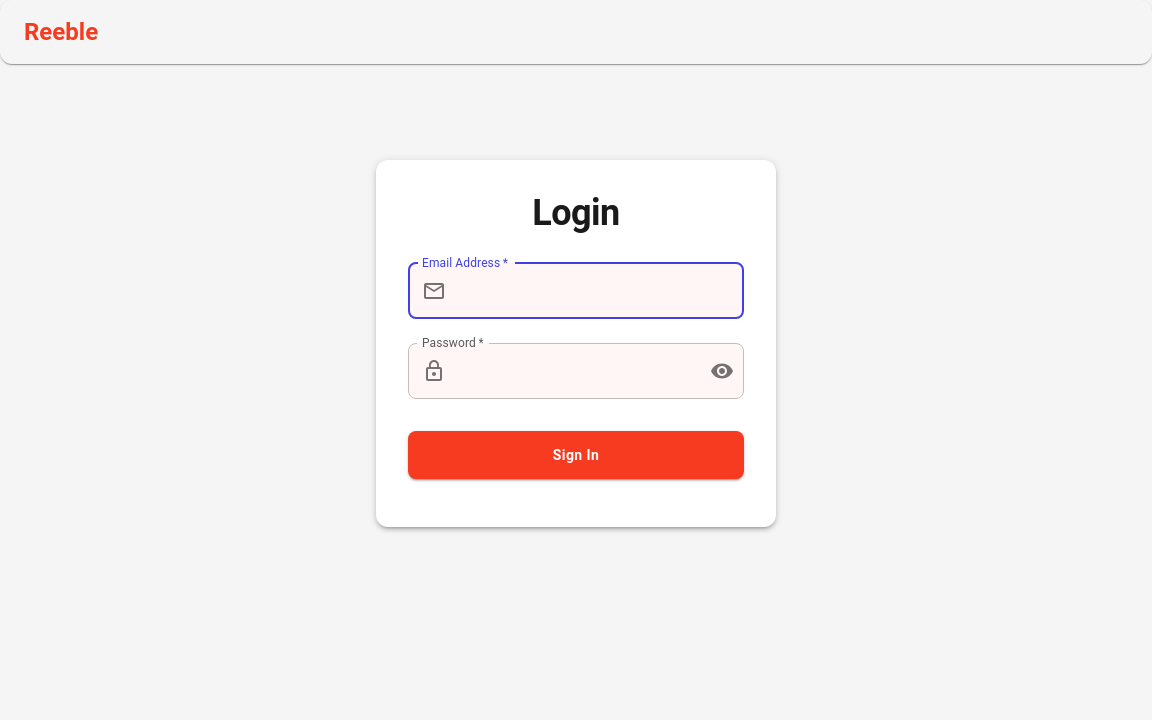
Test: Reeble Assignment E2E Tests › Buyer Flow › should login as buyer and test dashboard
Type "buyer@test.io" into the field named "email" at [599, 291], box 454,263 -> 744,319
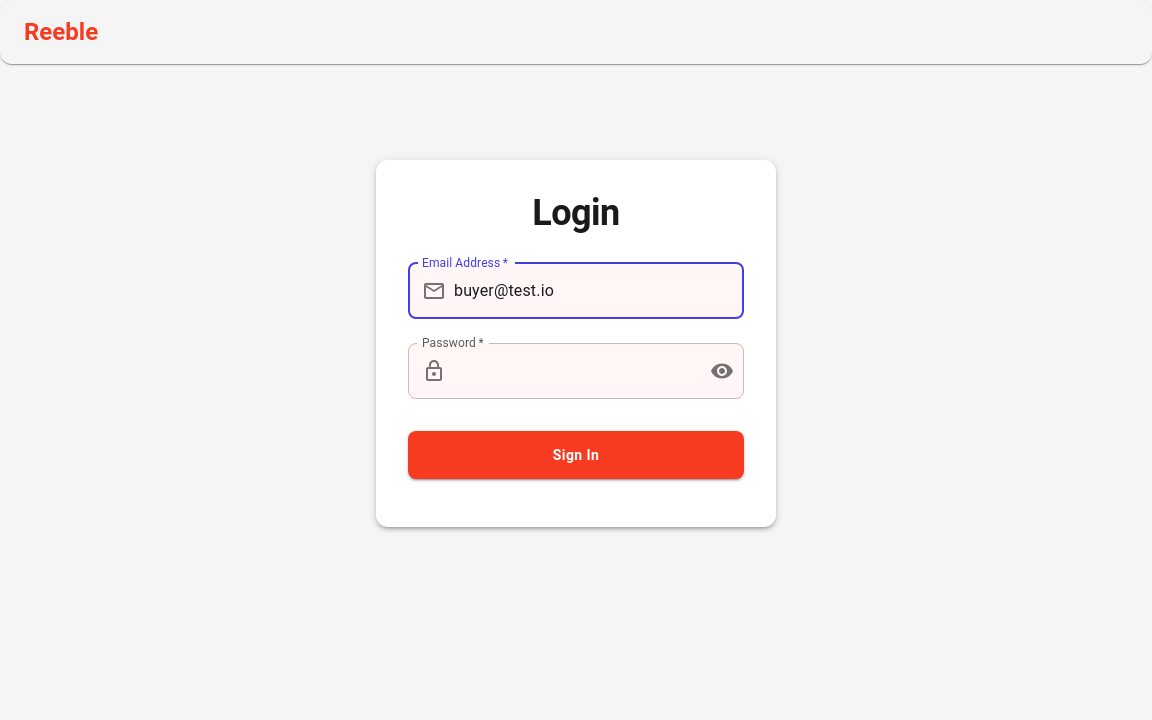
Type "password123" into the password field named "password" at [574, 371], box 454,343 -> 694,399
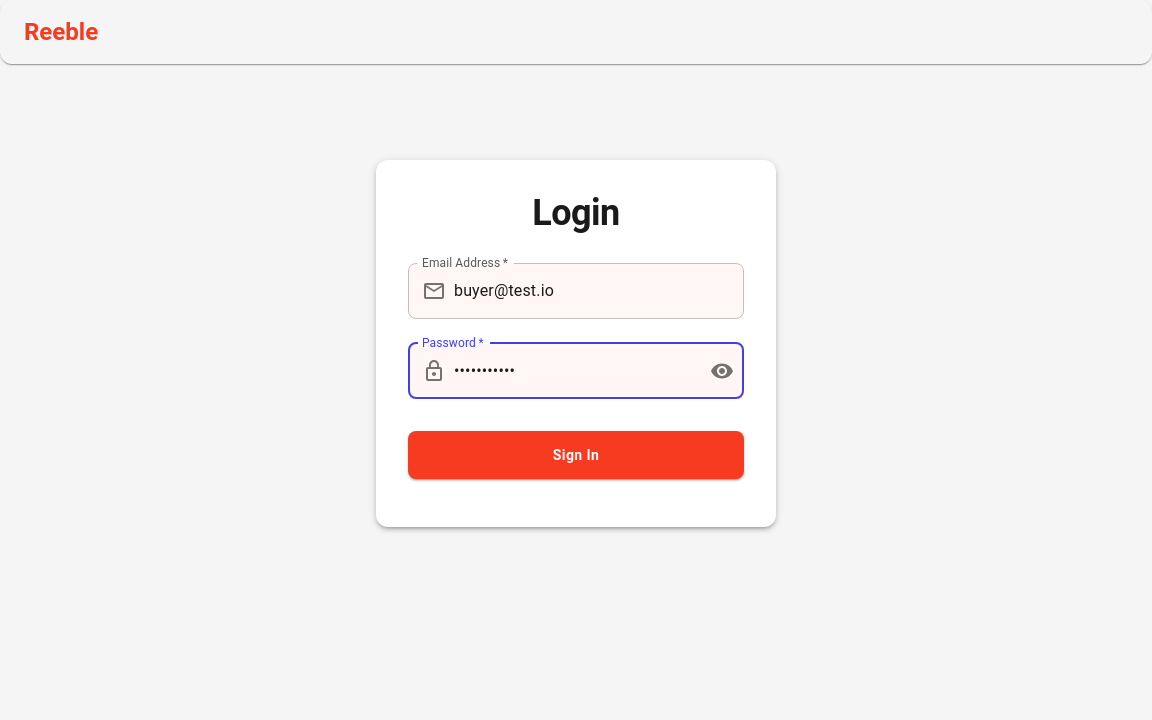
Click the submit button at [576, 456], box 408,431 -> 744,480
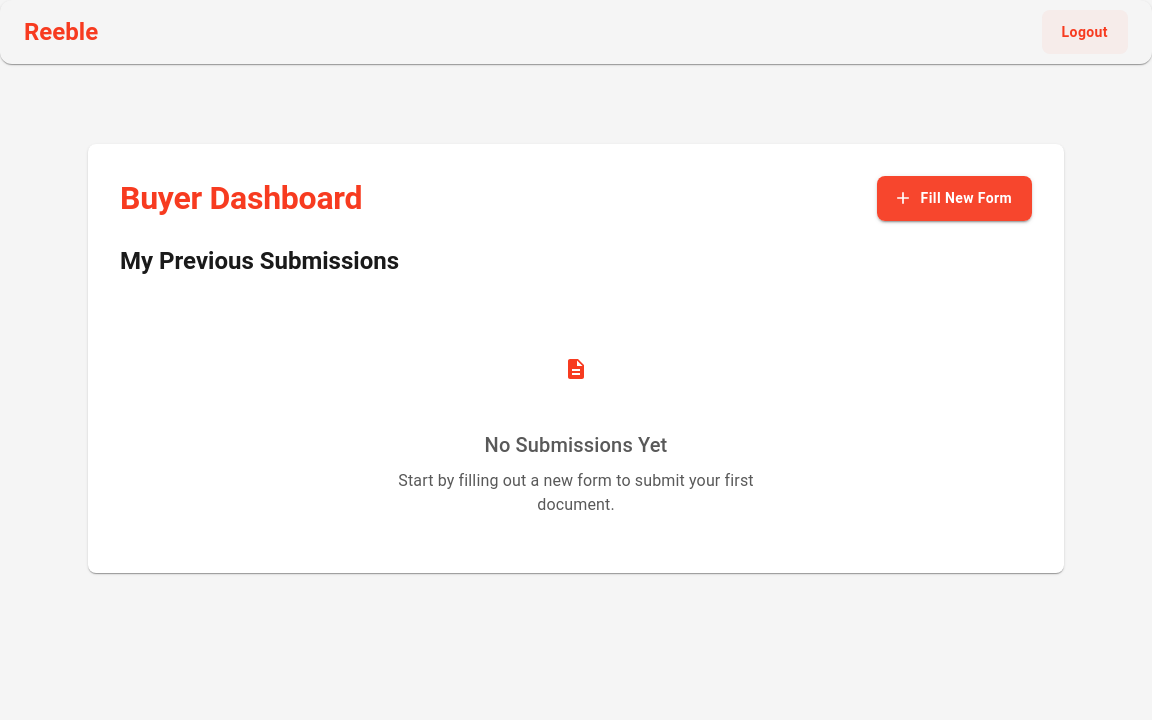
Now the heading "Buyer Dashboard" is shown, box 120,179 -> 362,217
